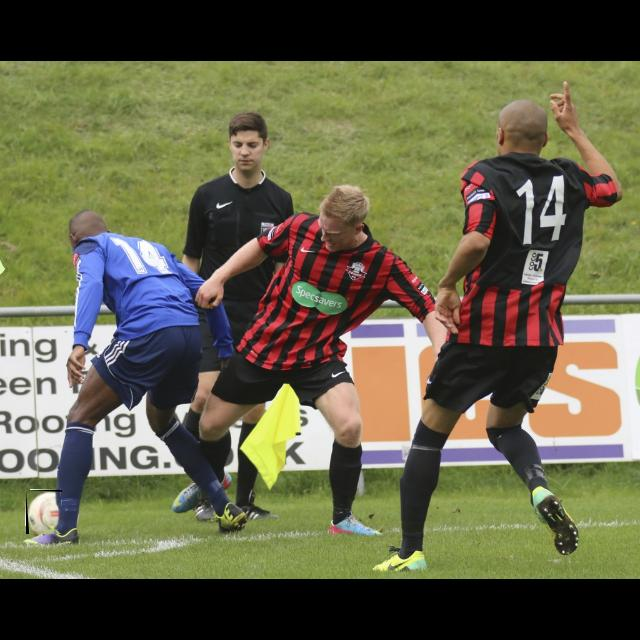Football: (26, 490, 62, 534)
